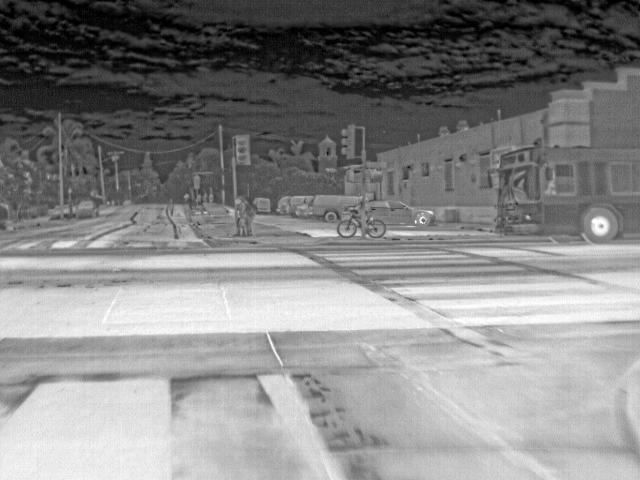car: (370, 199, 437, 228), (312, 193, 363, 222), (75, 197, 101, 219), (290, 194, 309, 215), (276, 196, 293, 215), (254, 196, 271, 213), (297, 204, 313, 220)
person: (244, 196, 257, 236), (234, 195, 245, 235), (360, 192, 372, 218), (201, 190, 209, 204), (208, 192, 215, 204)
